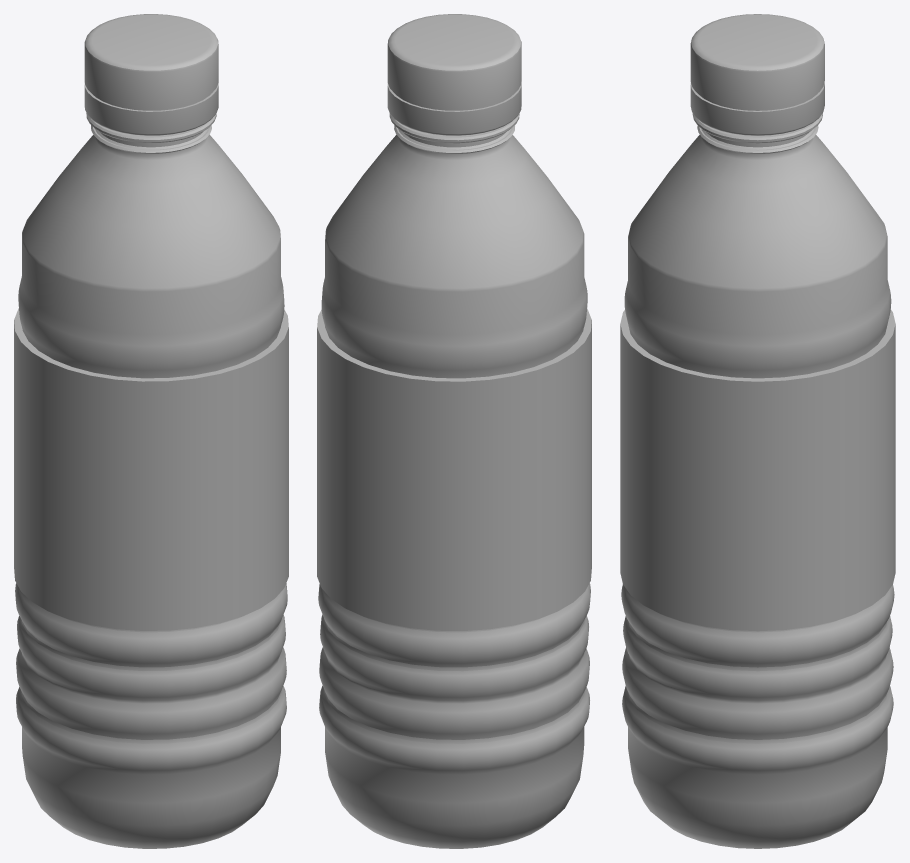
Rendered from alcohol.fbx.
3 renders of one model, left to right at view 1: azimuth 30°, elevation 25°; view 2: azimuth 150°, elevation 25°; view 3: azimuth 270°, elevation 25°, orthographic.
Parts seen in each view (by area): view 1: Bottle; view 2: Bottle; view 3: Bottle.
Part boxes in pixels (x1,y1,x2,y2): Bottle: [14, 14, 288, 848]; Bottle: [317, 14, 591, 848]; Bottle: [620, 14, 895, 848].
Bounding box in the file's own units: 12.28 × 37.93 × 12.28.
4 materials, 4 textured.
